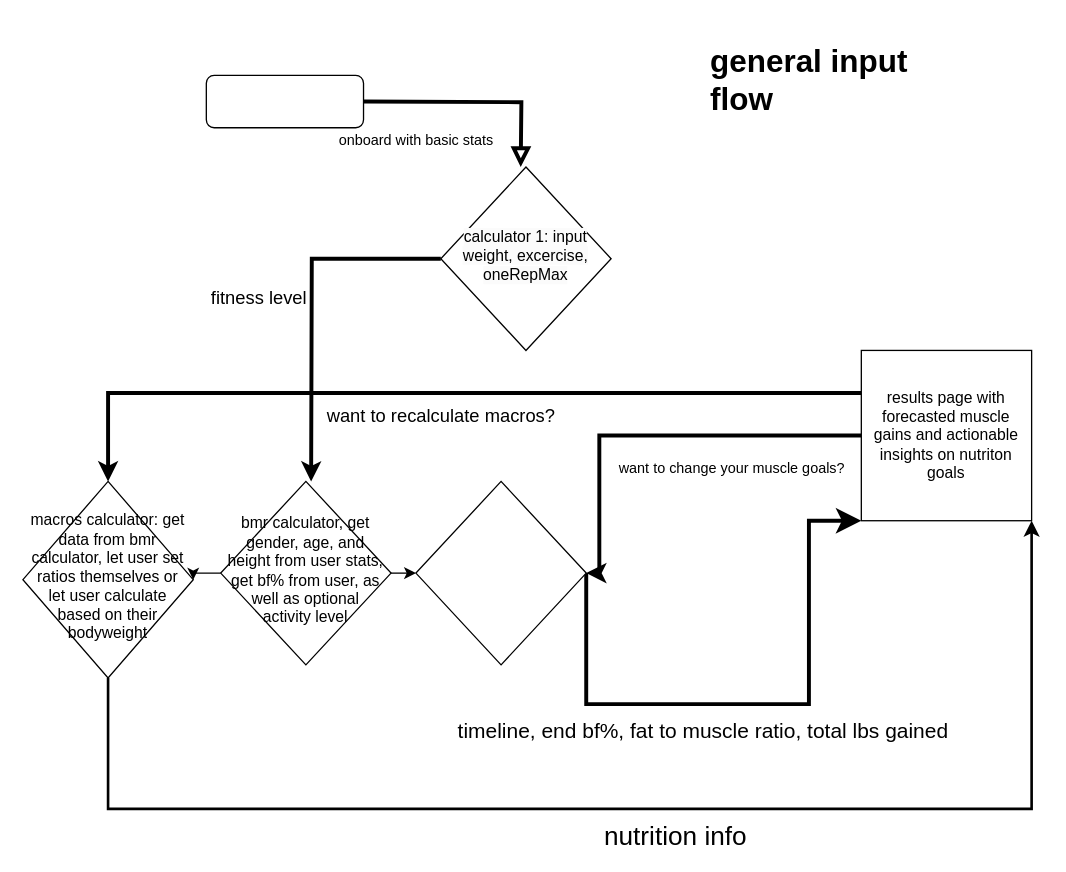
The diagram is 1066 pixels wide and 872 high, and some of its shapes have lost their labels. Here are the shapes that lost their labels. From the top down, the box of each, then its label:
(205, 74, 364, 128): input gender, age, height
(415, 480, 586, 665): calculator 3: sliders for bmr, bf%, muscle, calorie surplus
